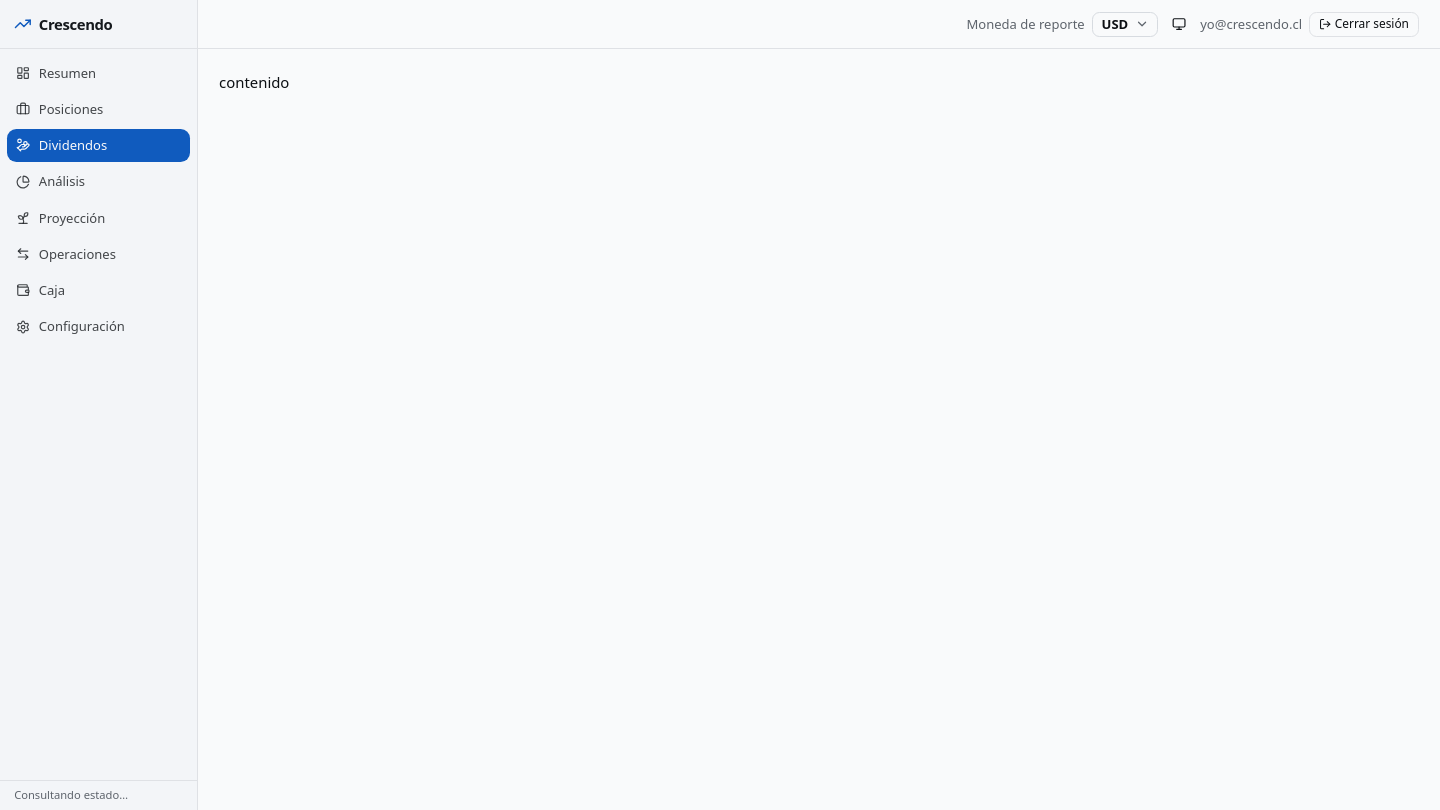
Layout › si no se puede guardar la moneda muestra un error y no la cambia
This screenshot has width=1440, height=810.
Select "CLP" in the dropdown labelled "Moneda de reporte" at (1125, 24), box [1092,12,1158,37]
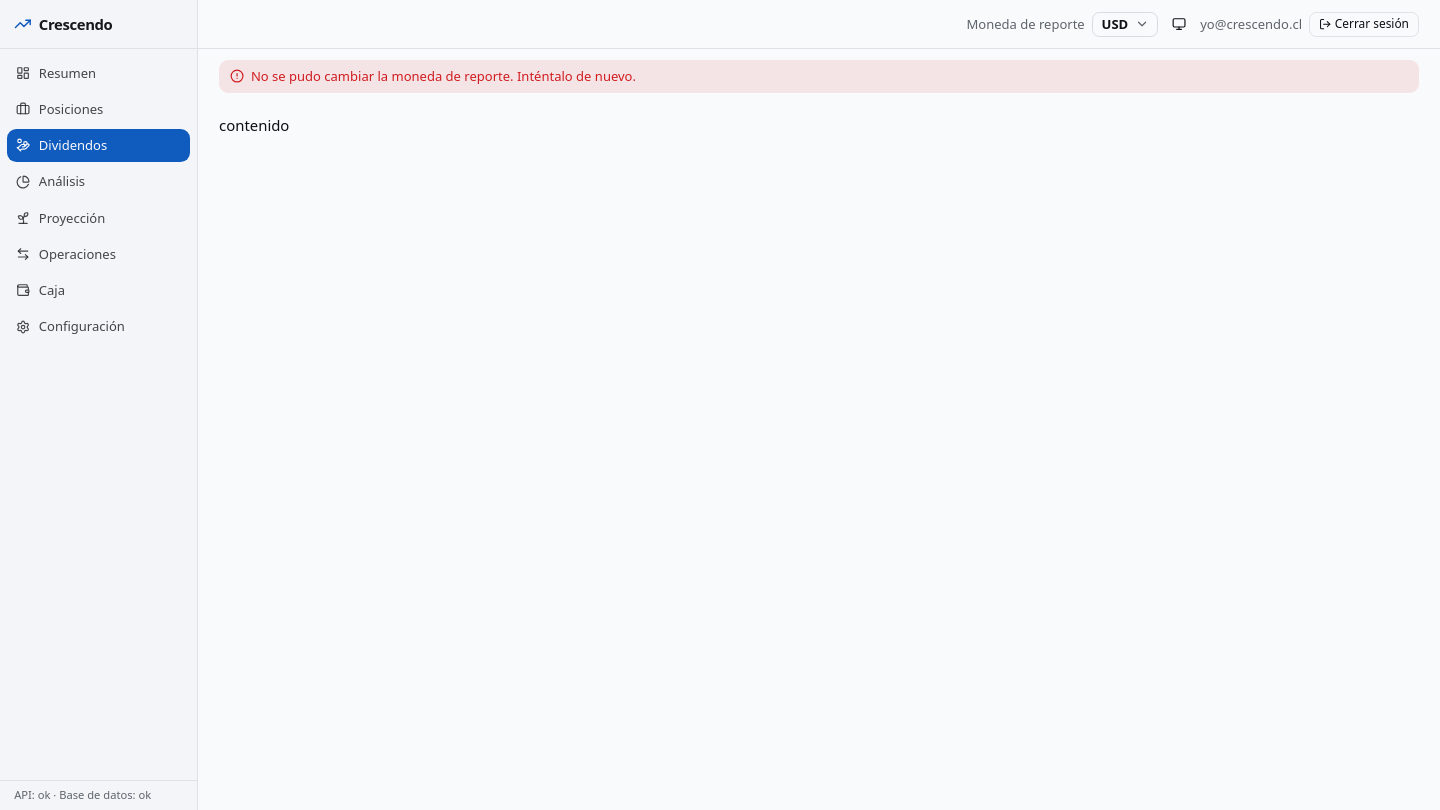
Now the message shows "No se pudo cambiar la moneda de reporte", box [251,67,636,85]
